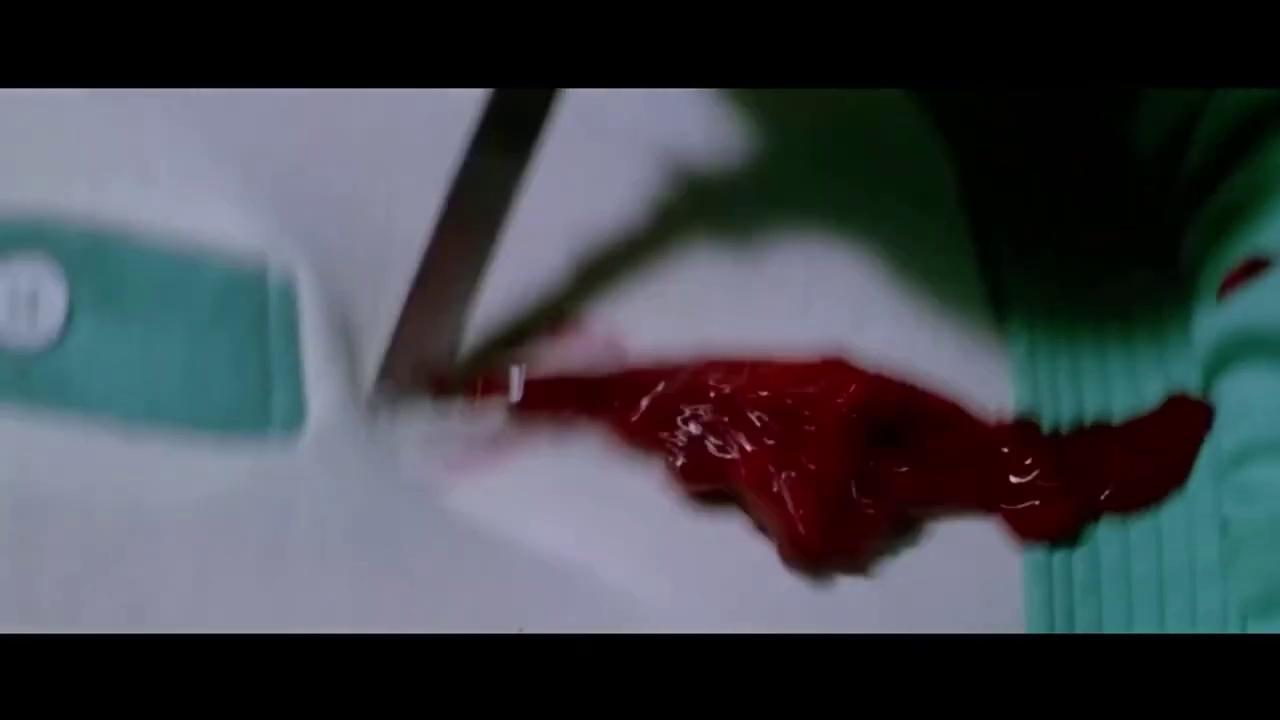Fire: (375, 274, 1221, 576), (1194, 242, 1280, 384)
